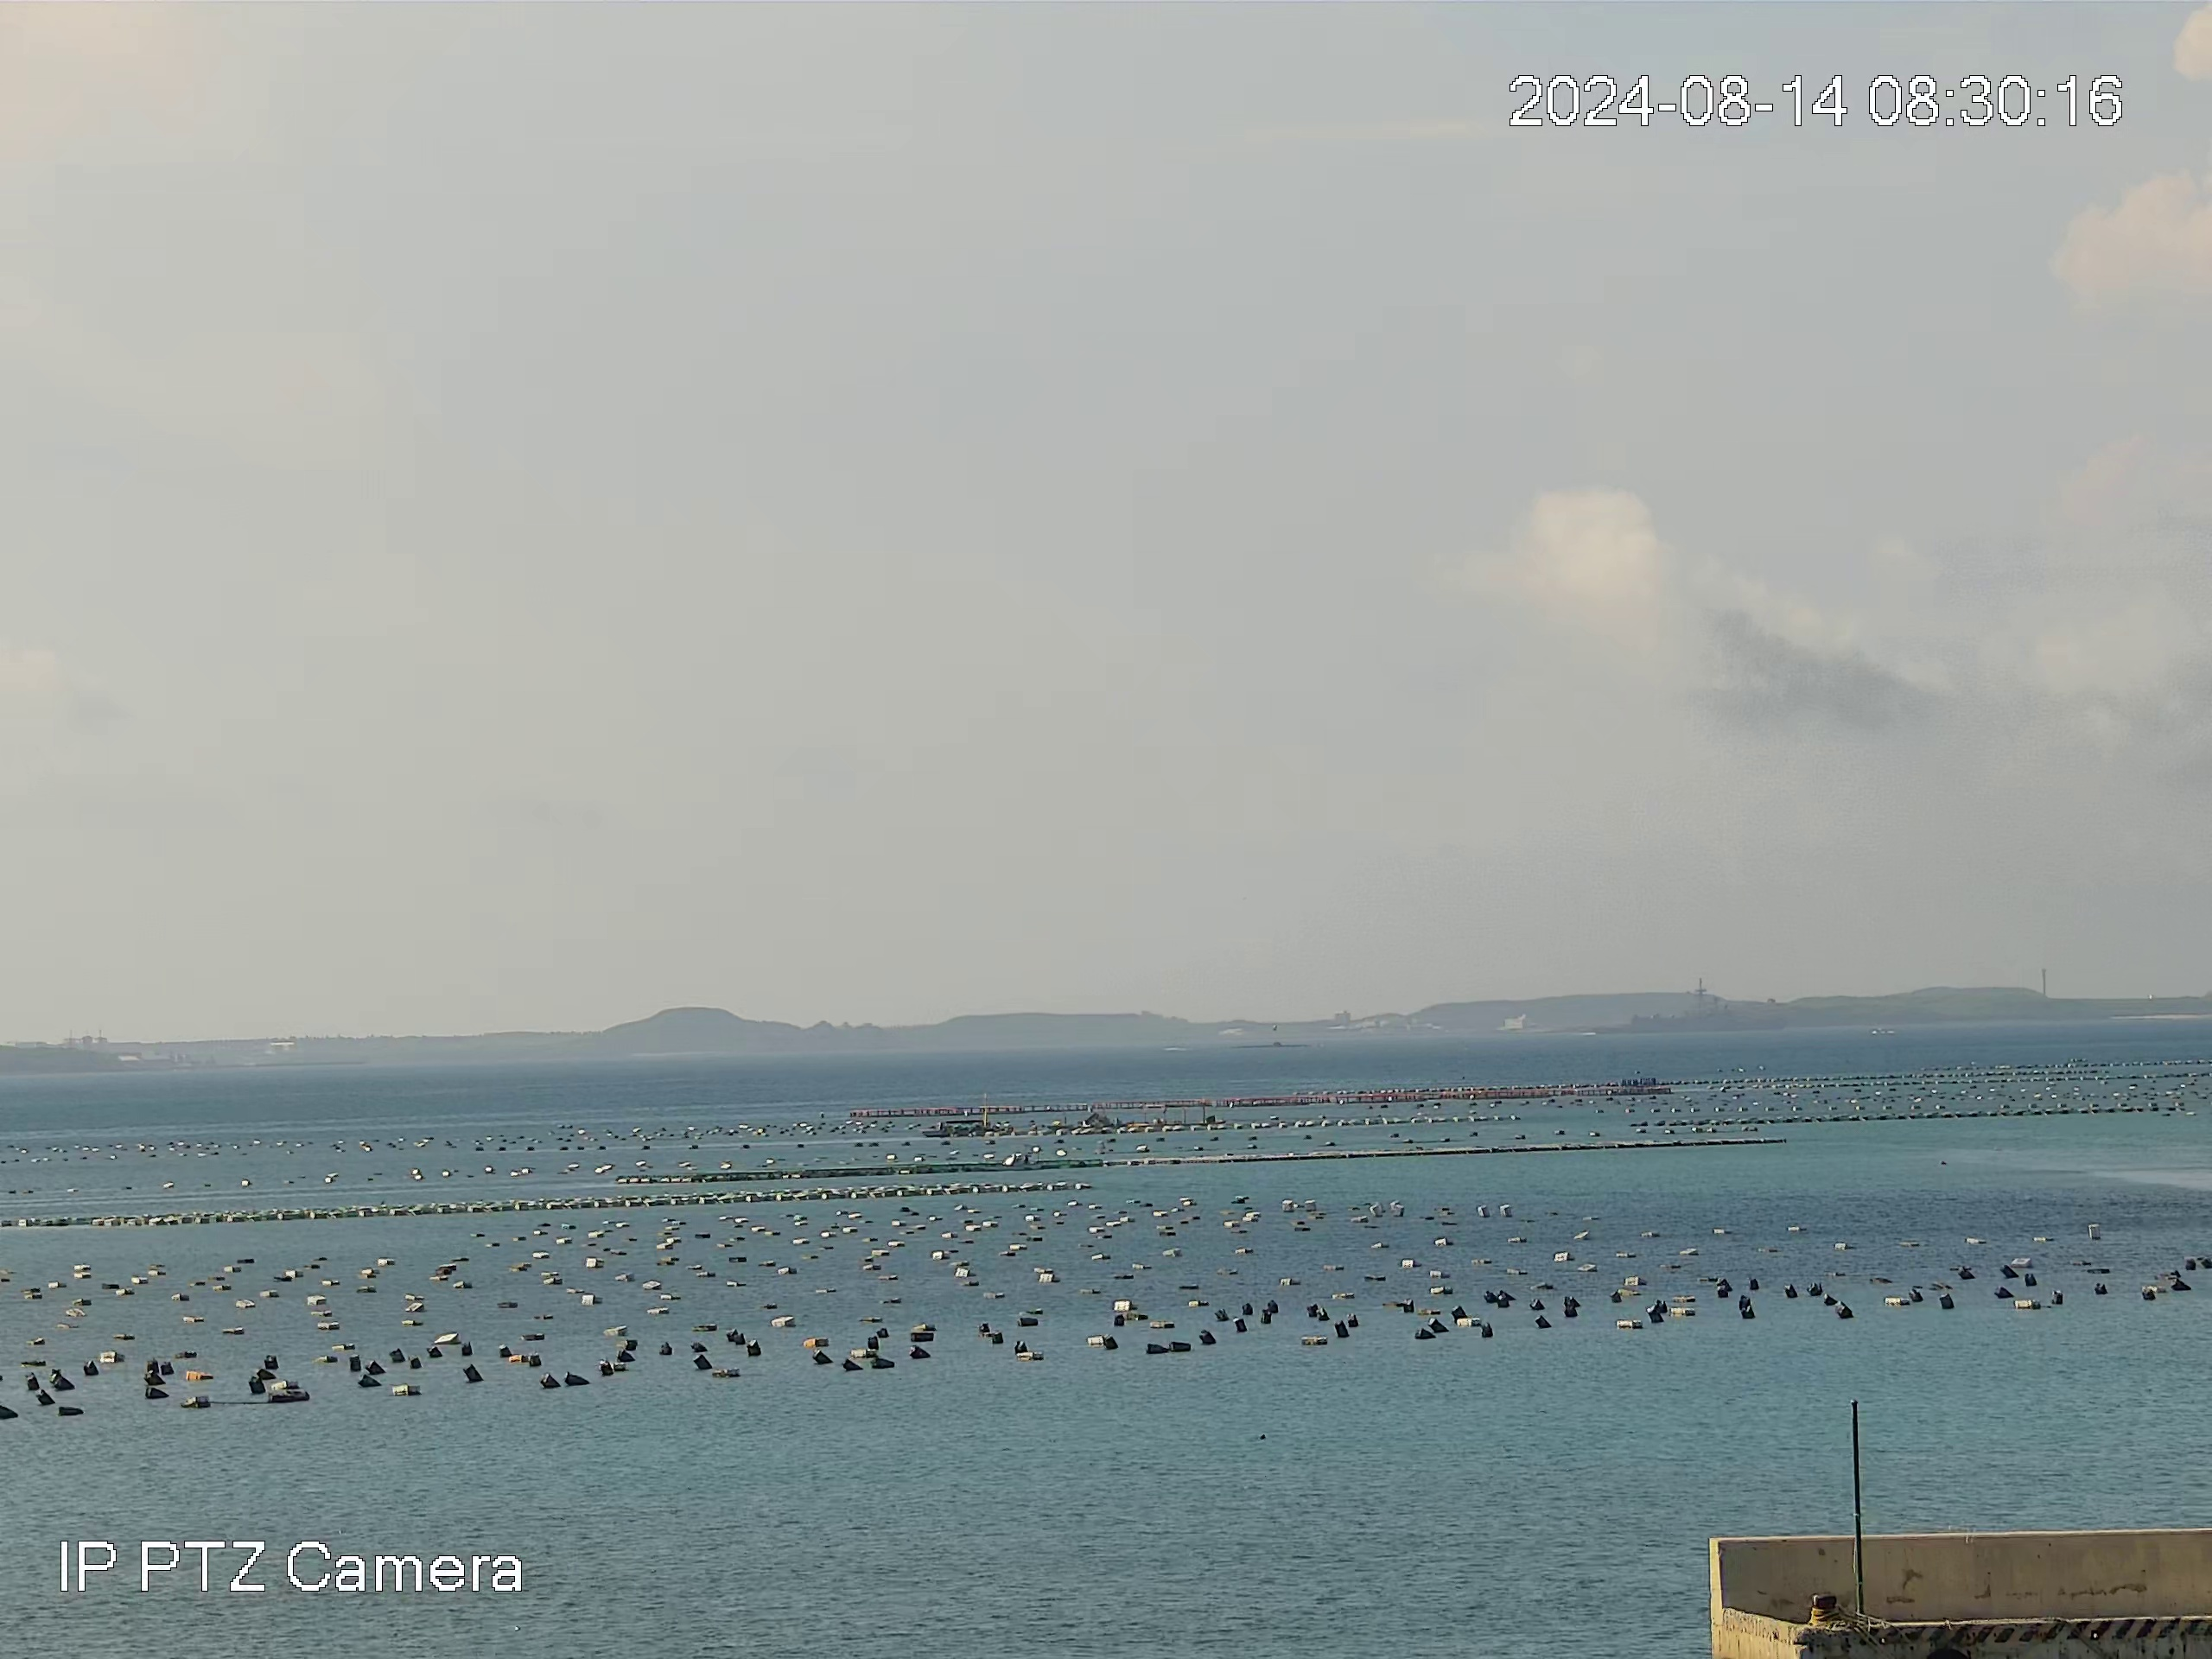boat: (921, 1117, 988, 1138)
